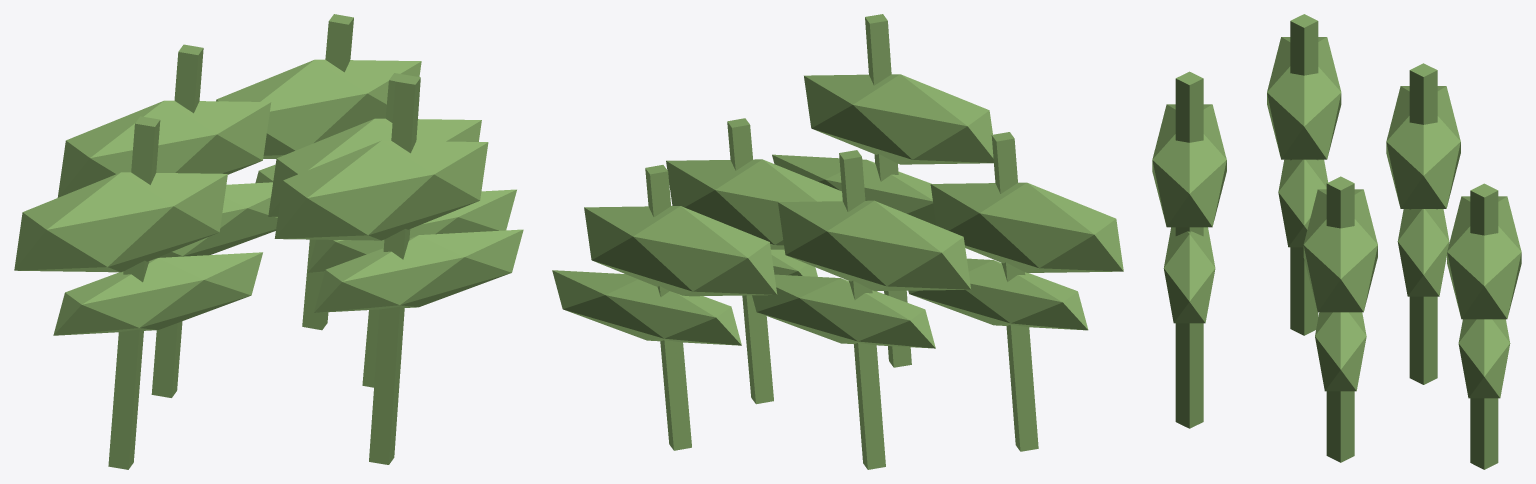
The model's file is crop_pea_growing.glb.
3 views of the same model, side by side, from view 1: azimuth 30°, elevation 25°; view 2: azimuth 150°, elevation 25°; view 3: azimuth 270°, elevation 25° (orthographic). The views are drawn at different scales.
Parts seen in each view (by area): view 1: crop_pea_growing; view 2: crop_pea_growing; view 3: crop_pea_growing.
Boxes of the visible parts, <box> form: crop_pea_growing: <box>14,14,523,469</box>; crop_pea_growing: <box>552,14,1123,469</box>; crop_pea_growing: <box>1152,14,1521,469</box>.
Bounding box in the file's own units: 0.506 × 0.3384 × 0.3163.
